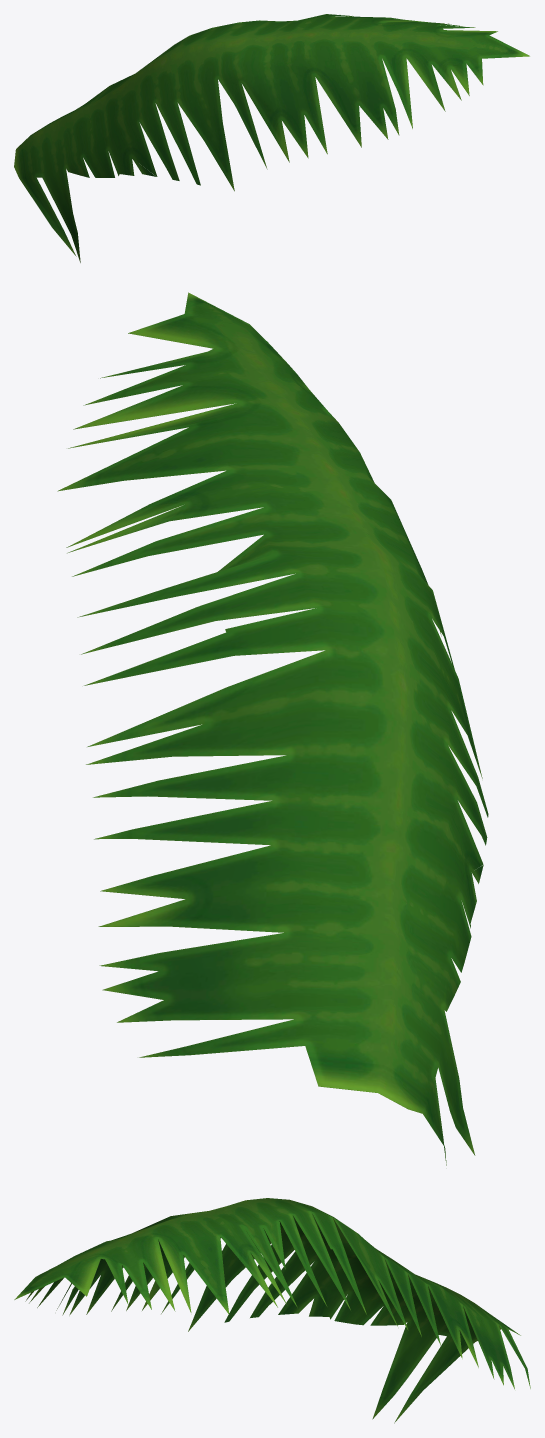
The model's file is palm_leaves_palm_leaves_0_006.obj.
The picture shows the model from 3 angles, top to bottom: view 1: azimuth 30°, elevation 25°; view 2: azimuth 150°, elevation 25°; view 3: azimuth 270°, elevation 25°; orthographic projection. The views are drawn at different scales.
Parts seen in each view (by area): view 1: palm_leaves_palm_leaves_0.006; view 2: palm_leaves_palm_leaves_0.006; view 3: palm_leaves_palm_leaves_0.006.
Part boxes in pixels (bbox=[...]): palm_leaves_palm_leaves_0.006: bbox=[14, 14, 529, 262]; palm_leaves_palm_leaves_0.006: bbox=[57, 292, 488, 1165]; palm_leaves_palm_leaves_0.006: bbox=[14, 1198, 530, 1423].
Bounding box in the file's own units: 19.47 × 15.35 × 23.73.
1 material, 1 textured.
